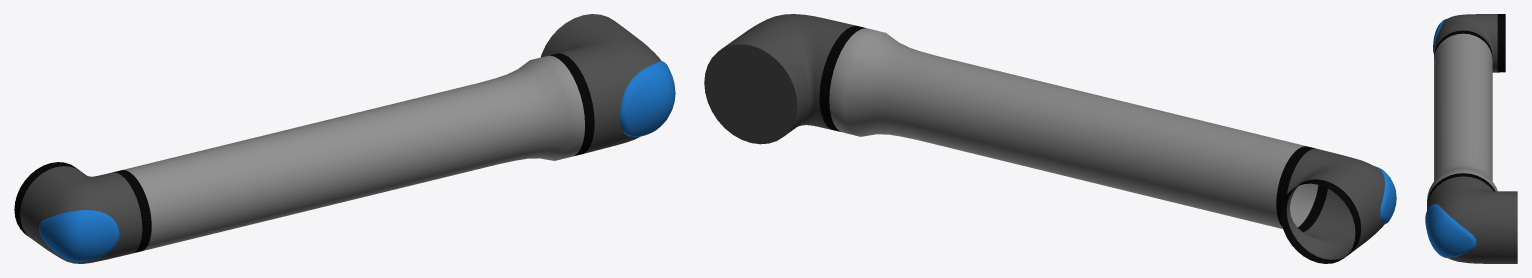
The model's file is upperarm.dae.
3 views of the same model, side by side, from view 1: azimuth 30°, elevation 25°; view 2: azimuth 150°, elevation 25°; view 3: azimuth 270°, elevation 25° (orthographic). The views are drawn at different scales.
Visible parts, largest first — view 1: shoulder_002, shoulder_pad_003, shoulder_pad_004; view 2: shoulder_002, shoulder_pad_003; view 3: shoulder_002, shoulder_pad_004, shoulder_pad_003.
Boxes of the visible parts, bbox=[...] form: shoulder_002: bbox=[14, 14, 661, 263]; shoulder_pad_003: bbox=[39, 210, 119, 262]; shoulder_pad_004: bbox=[620, 61, 675, 137]; shoulder_002: bbox=[704, 14, 1384, 263]; shoulder_pad_003: bbox=[1375, 166, 1396, 223]; shoulder_002: bbox=[1427, 14, 1517, 263]; shoulder_pad_004: bbox=[1425, 204, 1476, 257]; shoulder_pad_003: bbox=[1433, 18, 1447, 53].
Size of the model in its own units: 1.04 by 0.1907 by 0.15.
